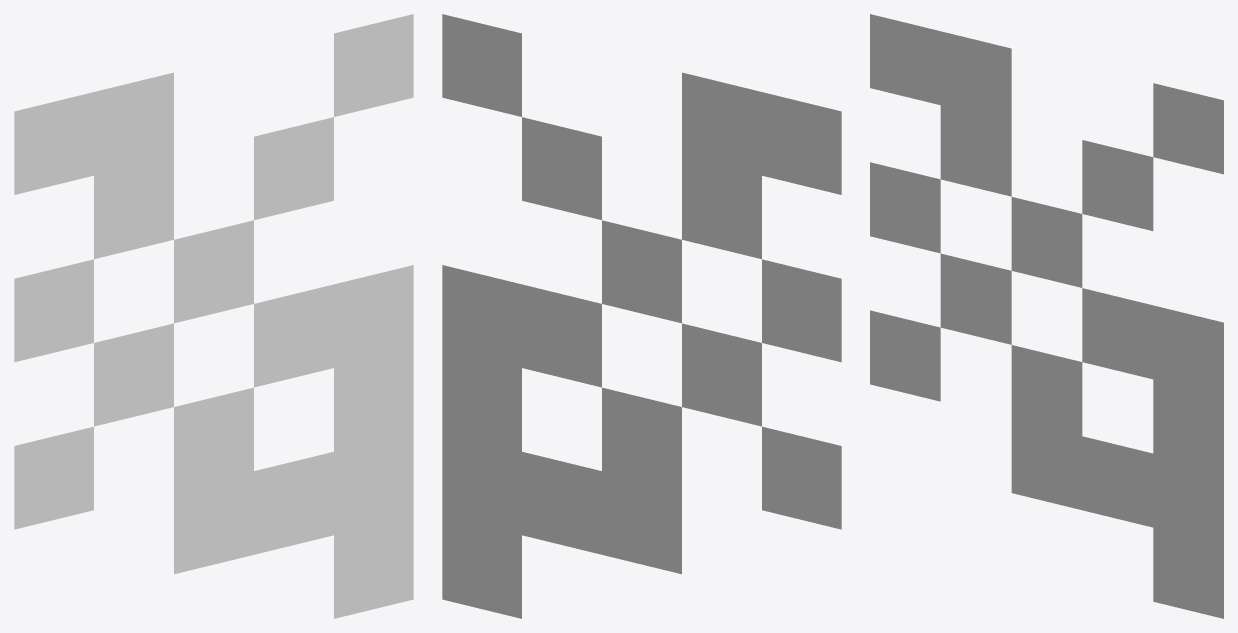
File: chr3_wtf.obj
3 views of the same model, side by side, from view 1: azimuth 30°, elevation 25°; view 2: azimuth 150°, elevation 25°; view 3: azimuth 330°, elevation 25° (orthographic). The views are drawn at different scales.
Parts seen in each view (by area): view 1: group1; view 2: group1; view 3: group1.
Part boxes in pixels (bbox=[...]): group1: bbox=[14, 14, 413, 618]; group1: bbox=[442, 14, 841, 618]; group1: bbox=[870, 14, 1223, 618].
Bounding box in the file's own units: 471 × 660 × 1.2e-05.
